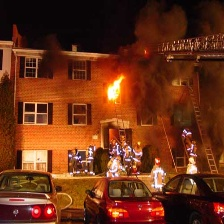fire: (103, 76, 124, 107)
smoke: (116, 6, 224, 121)
